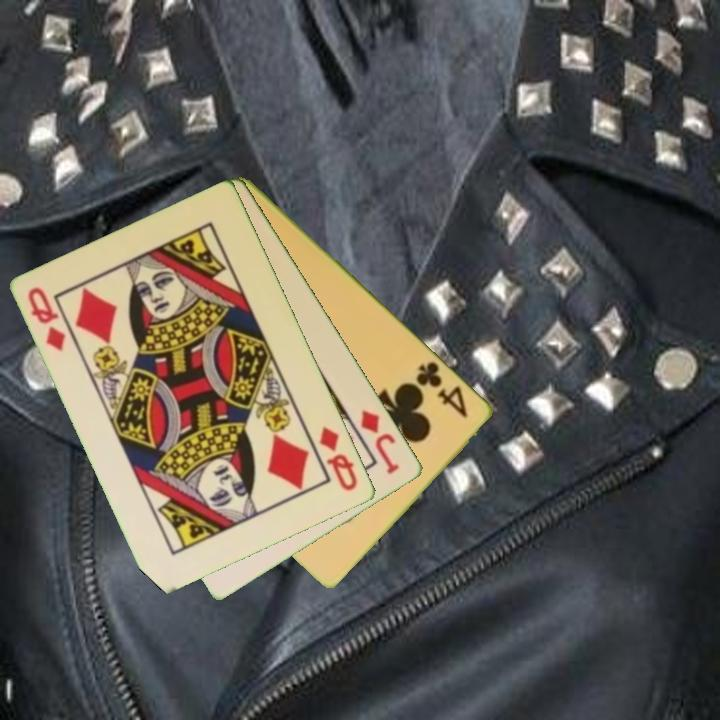4c: (413, 358, 472, 421)
Jd: (357, 406, 403, 477)
Qd: (316, 423, 361, 494), (24, 283, 69, 354)
